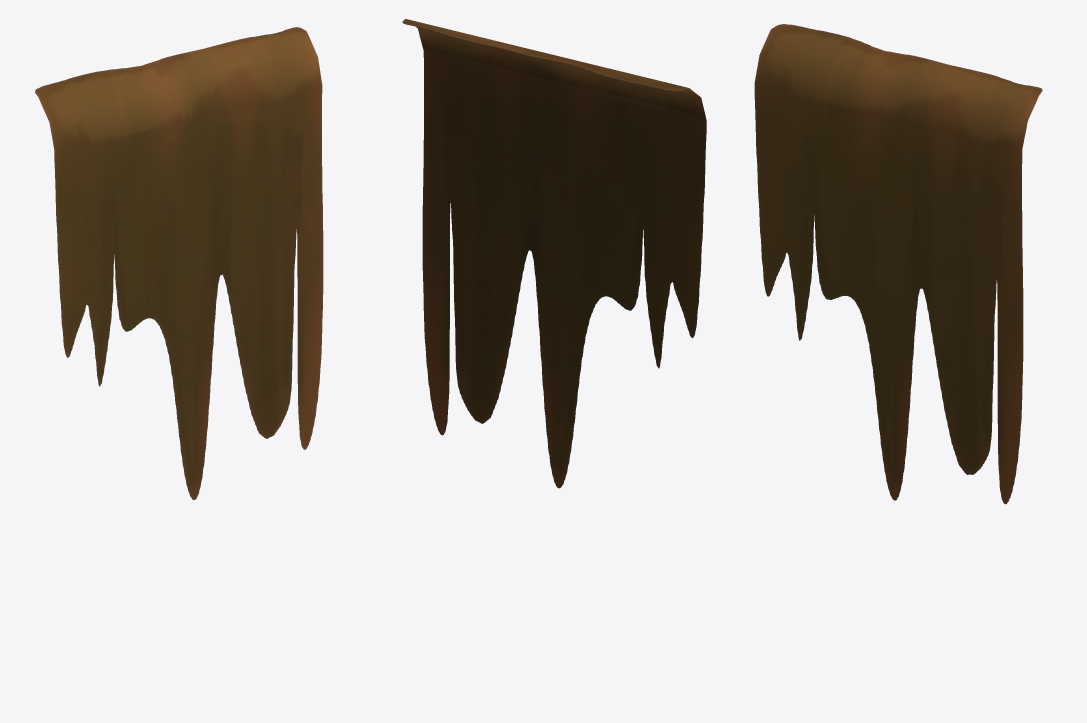
File: Veg_Moss_C.fbx
3 renders of one model, left to right at view 1: azimuth 30°, elevation 25°; view 2: azimuth 150°, elevation 25°; view 3: azimuth 330°, elevation 25°, orthographic. The views are drawn at different scales.
Visible parts, largest first — view 1: Veg_Moss_C; view 2: Veg_Moss_C; view 3: Veg_Moss_C.
Part boxes in pixels (<box>): Veg_Moss_C: <box>35,27,323,499</box>; Veg_Moss_C: <box>402,19,706,488</box>; Veg_Moss_C: <box>754,24,1042,504</box>.
Bounding box in the file's own units: 119 × 229 × 21.37.
